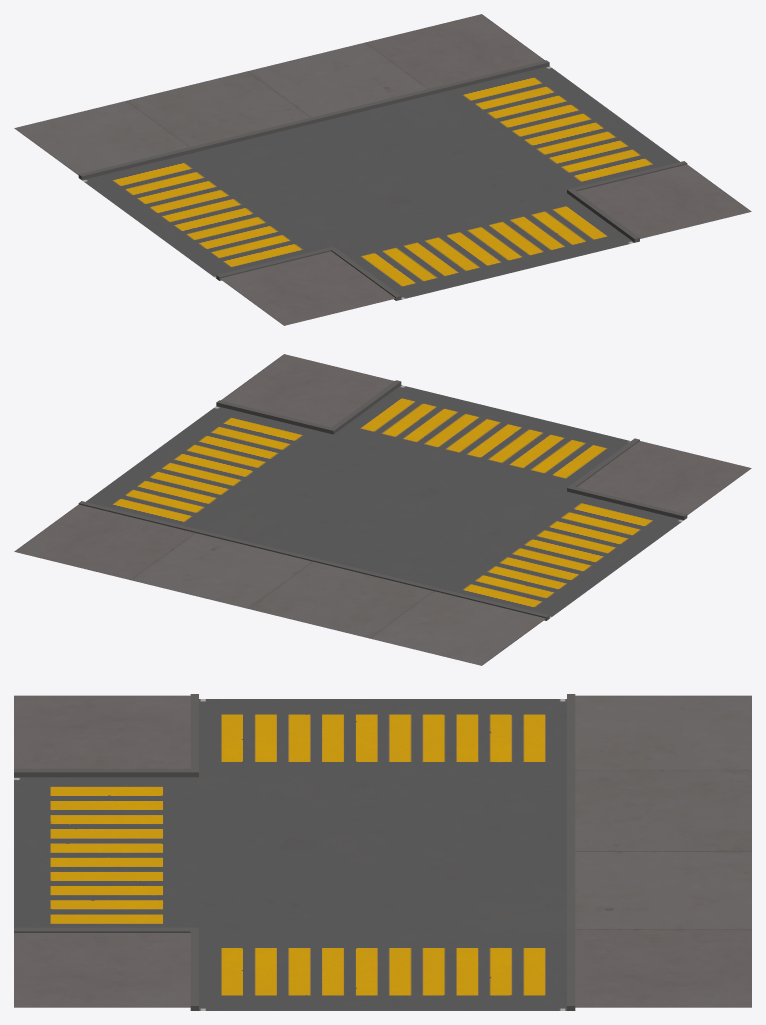
File: SM_Floor_Road_04.fbx
3 renders of one model, top to bottom at view 1: azimuth 30°, elevation 25°; view 2: azimuth 150°, elevation 25°; view 3: azimuth 270°, elevation 25°, orthographic. The views are drawn at different scales.
Visible parts, largest first — view 1: SM_Floor_Road_04; view 2: SM_Floor_Road_04; view 3: SM_Floor_Road_04.
Boxes of the visible parts, left/top/right/bottom form: SM_Floor_Road_04: left=14, top=14, right=751, bottom=325; SM_Floor_Road_04: left=14, top=354, right=751, bottom=665; SM_Floor_Road_04: left=14, top=694, right=751, bottom=1010.
Bounding box in the file's own units: 10 × 0.075 × 10.
